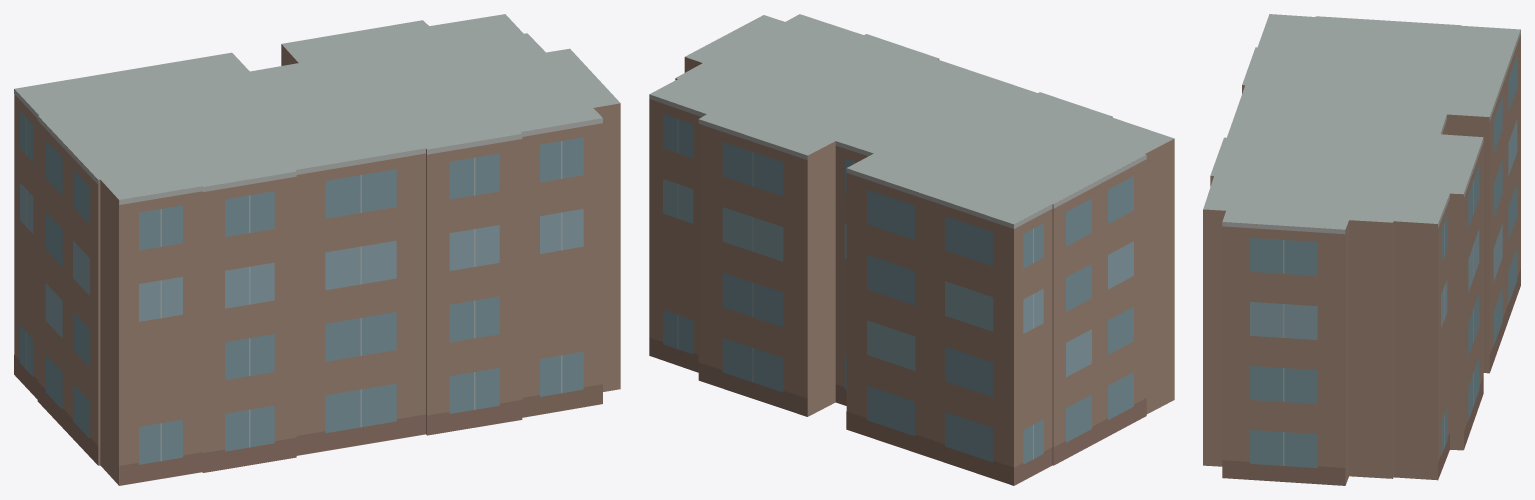
File: survey-upis-32828883.glb
3 renders of one model, left to right at view 1: azimuth 30°, elevation 25°; view 2: azimuth 150°, elevation 25°; view 3: azimuth 270°, elevation 25°, orthographic. The views are drawn at different scales.
Visible parts, largest first — view 1: survey-upis-32828883.tmp; view 2: survey-upis-32828883.tmp; view 3: survey-upis-32828883.tmp.
Part boxes in pixels (x1,y1,x2,y2): survey-upis-32828883.tmp: (14, 14, 620, 485); survey-upis-32828883.tmp: (649, 14, 1174, 485); survey-upis-32828883.tmp: (1203, 14, 1520, 485).
Size of the model in its own units: 25.02 by 13.85 by 15.58.
